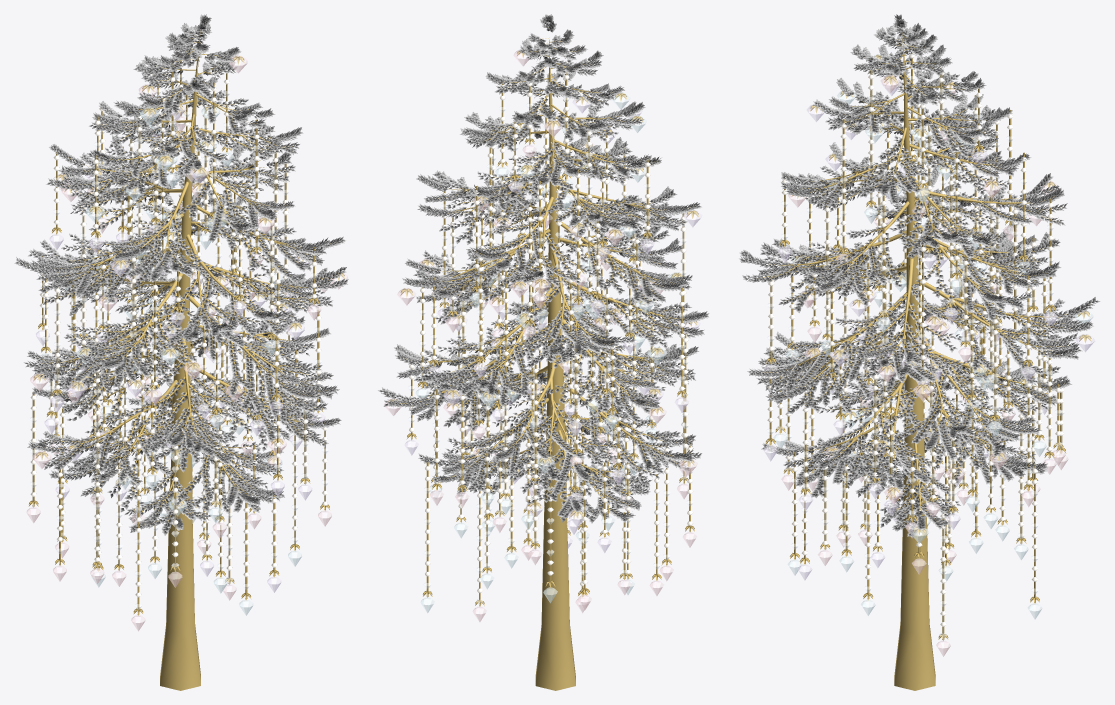
Rendered from houju_takara.glb.
3 views of the same model, side by side, from view 1: azimuth 30°, elevation 25°; view 2: azimuth 150°, elevation 25°; view 3: azimuth 270°, elevation 25° (orthographic). The views are drawn at different scales.
Visible parts, largest first — view 1: object 2, object 1, gold_wire, pearl_batch, hari_batch, sakura_batch, fuji_batch, mizu_batch, gold_fitting; view 2: object 2, object 1, gold_wire, pearl_batch, sakura_batch, hari_batch, mizu_batch, fuji_batch, gold_fitting; view 3: object 2, object 1, gold_wire, pearl_batch, hari_batch, sakura_batch, mizu_batch, gold_fitting, fuji_batch.
Boxes of the visible parts, x1=… form: object 2: x1=14, y1=14, x2=348, y2=535; object 1: x1=28, y1=31, x2=335, y2=690; gold_wire: x1=32, y1=60, x2=325, y2=614; pearl_batch: x1=30, y1=64, x2=327, y2=597; hari_batch: x1=30, y1=73, x2=328, y2=609; sakura_batch: x1=26, y1=55, x2=347, y2=631; fuji_batch: x1=36, y1=103, x2=325, y2=592; mizu_batch: x1=39, y1=106, x2=301, y2=615; gold_fitting: x1=28, y1=56, x2=344, y2=615; object 2: x1=378, y1=14, x2=709, y2=523; object 1: x1=399, y1=27, x2=691, y2=690; gold_wire: x1=411, y1=61, x2=690, y2=605; pearl_batch: x1=409, y1=75, x2=693, y2=593; sakura_batch: x1=384, y1=49, x2=697, y2=621; hari_batch: x1=408, y1=97, x2=693, y2=604; mizu_batch: x1=415, y1=92, x2=685, y2=612; fuji_batch: x1=404, y1=95, x2=702, y2=552; gold_fitting: x1=387, y1=51, x2=698, y2=606; object 2: x1=739, y1=14, x2=1100, y2=537; object 1: x1=758, y1=29, x2=1070, y2=690; gold_wire: x1=769, y1=52, x2=1062, y2=639; pearl_batch: x1=767, y1=54, x2=1064, y2=626; hari_batch: x1=767, y1=75, x2=1064, y2=638; sakura_batch: x1=781, y1=75, x2=1068, y2=656; mizu_batch: x1=773, y1=54, x2=1093, y2=619; gold_fitting: x1=765, y1=54, x2=1091, y2=640; fuji_batch: x1=763, y1=80, x2=1094, y2=580.
Size of the model in its own units: 7.53 by 15.83 by 7.72.
8 materials, 1 textured.
